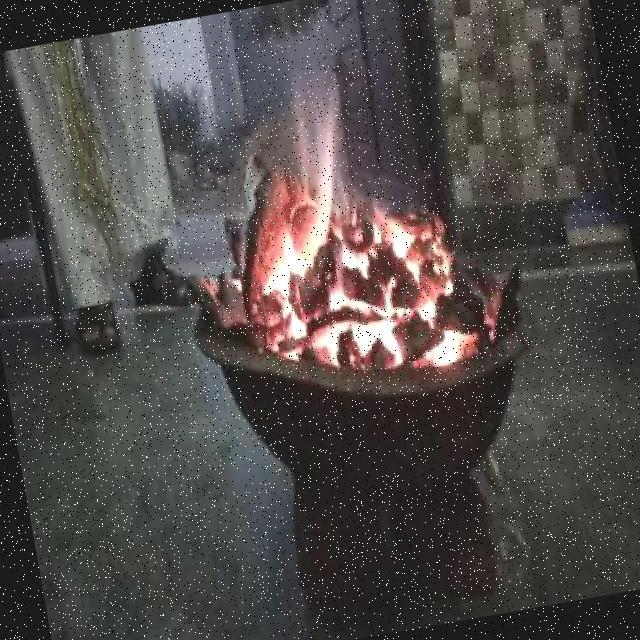Fire: (210, 100, 498, 403)
